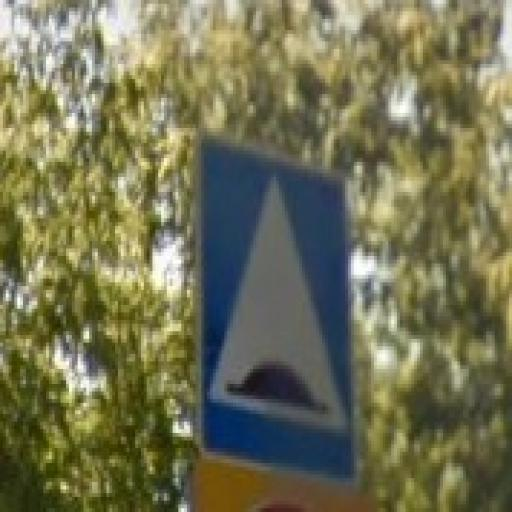traffic_sign: (194, 129, 361, 490)
